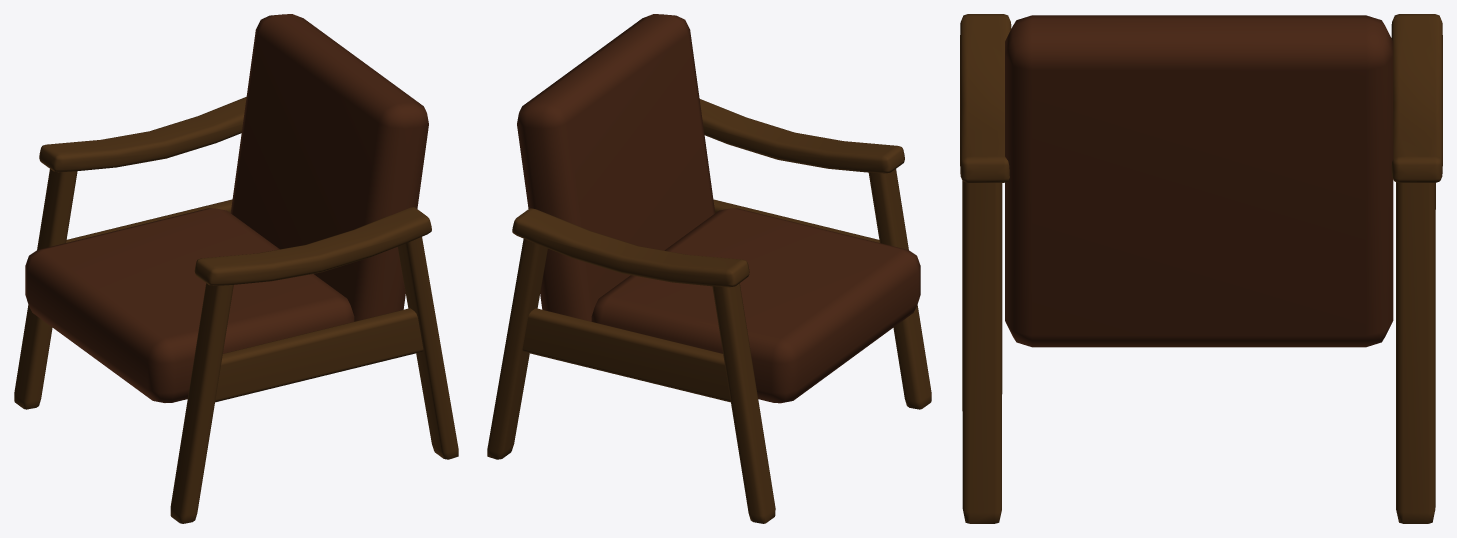
Rendered from armchair_08_leather_brown.fbx.
3 views of the same model, side by side, from view 1: azimuth 30°, elevation 25°; view 2: azimuth 150°, elevation 25°; view 3: azimuth 270°, elevation 25° (orthographic). The views are drawn at different scales.
Visible parts, largest first — view 1: armchair_08_leather_brown; view 2: armchair_08_leather_brown; view 3: armchair_08_leather_brown.
Part boxes in pixels (left/top/right/bottom): armchair_08_leather_brown: left=14, top=14, right=458, bottom=523; armchair_08_leather_brown: left=487, top=14, right=931, bottom=523; armchair_08_leather_brown: left=960, top=14, right=1442, bottom=523.
Size of the model in its own units: 94.97 by 109 by 99.4.
1 material, 1 textured.
